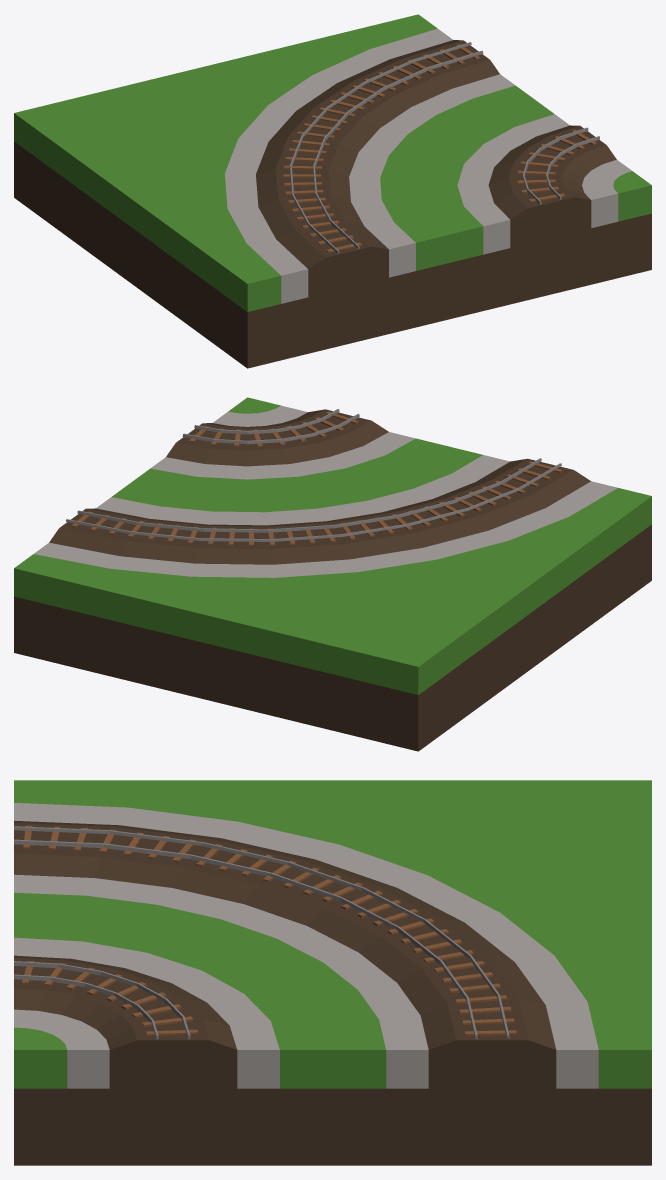
File: tile-rail-curve-double.fbx
3 renders of one model, top to bottom at view 1: azimuth 30°, elevation 25°; view 2: azimuth 150°, elevation 25°; view 3: azimuth 270°, elevation 25°, orthographic. The views are drawn at different scales.
Parts seen in each view (by area): view 1: tile-rail-curve-double; view 2: tile-rail-curve-double; view 3: tile-rail-curve-double.
Part boxes in pixels (box(x1,y1,x2,y2)): tile-rail-curve-double: box(14, 14, 651, 368); tile-rail-curve-double: box(14, 397, 651, 751); tile-rail-curve-double: box(14, 780, 651, 1165).
Size of the model in its own units: 30 by 6.75 by 30.
